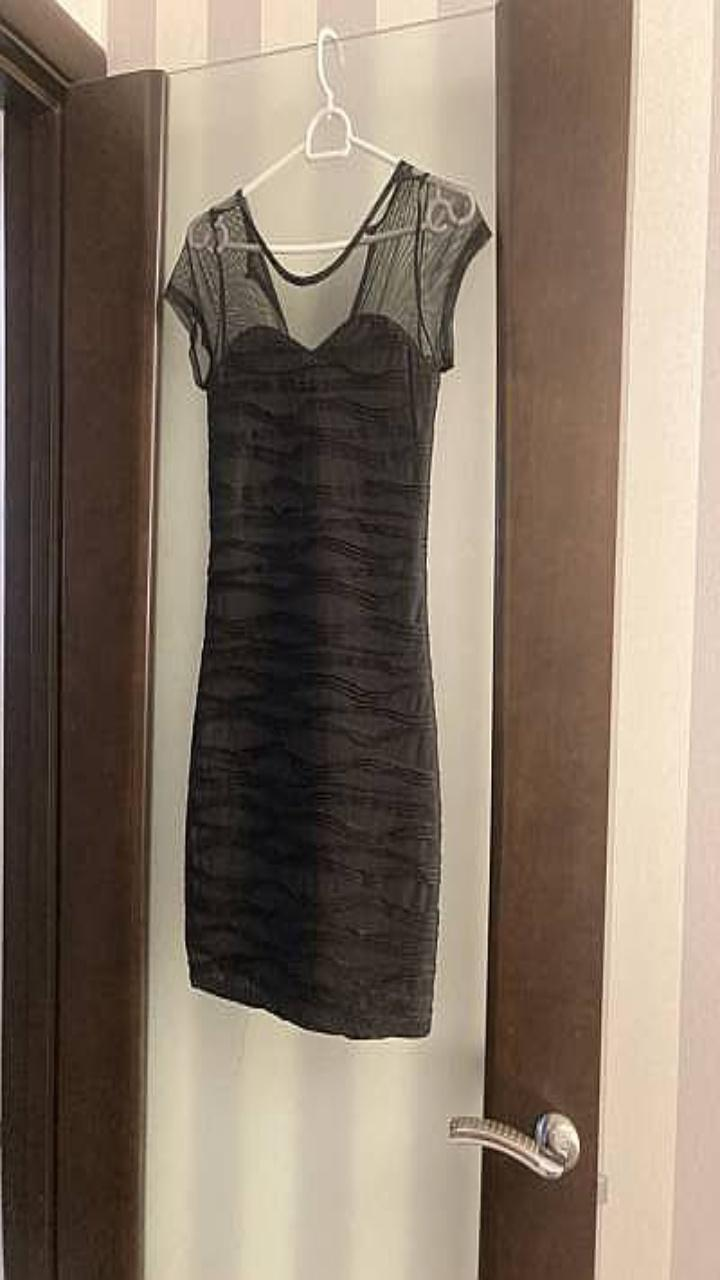Dresses: (166, 160, 490, 1037)
